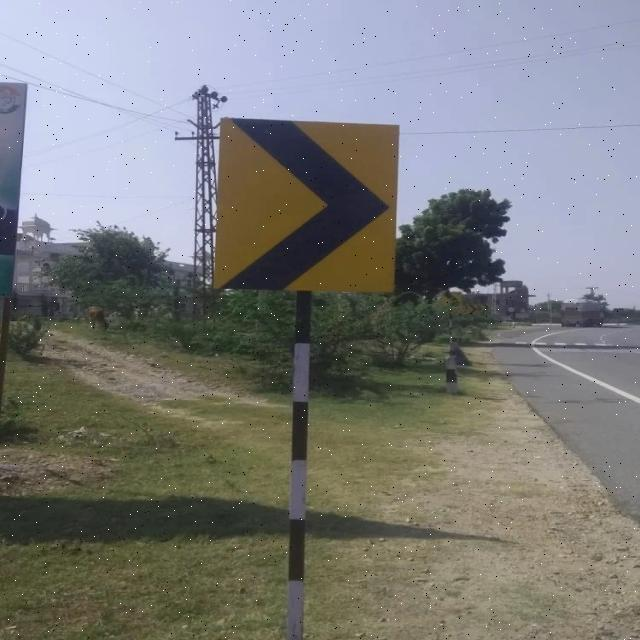chevron_right: (223, 123, 401, 295)
